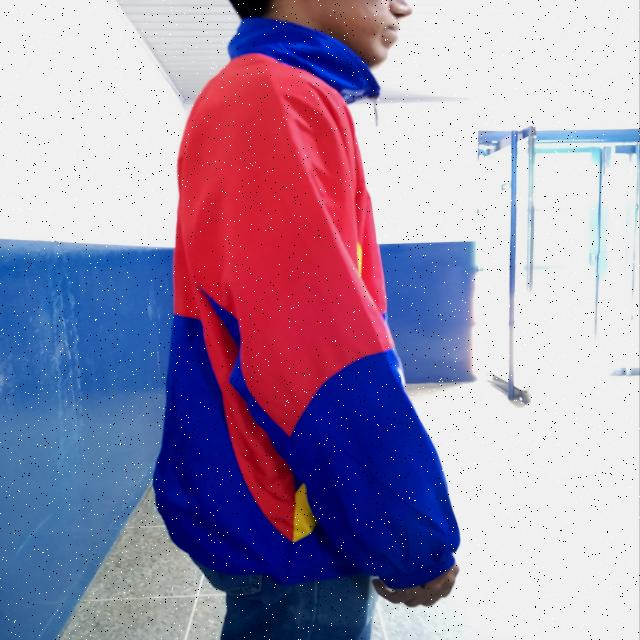chaqueta_unefa: (149, 18, 463, 592)
